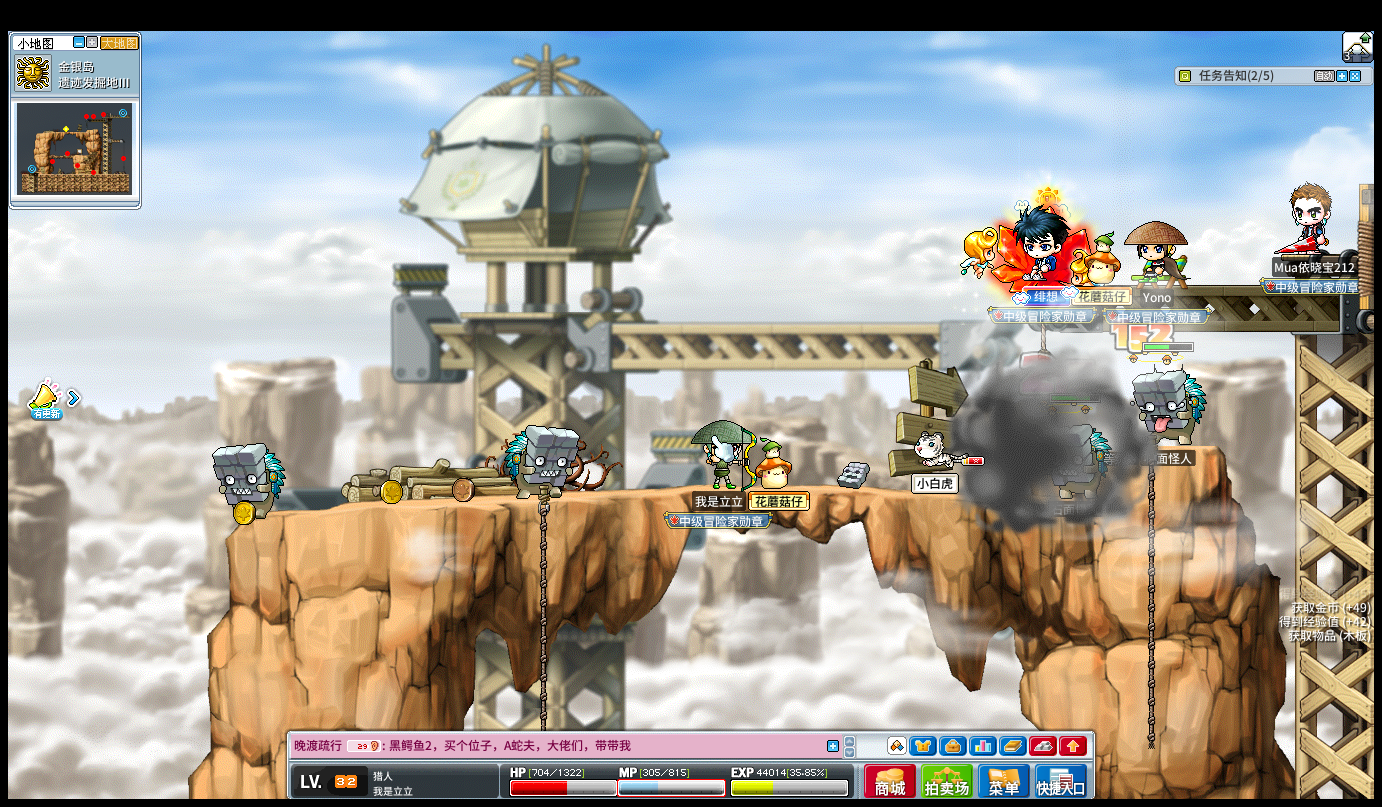floor: (227, 480, 1053, 511), (241, 480, 980, 503)
monster: (1047, 420, 1111, 527), (211, 442, 286, 524), (504, 424, 579, 501), (1132, 369, 1208, 442)
rope: (1143, 436, 1160, 752), (536, 482, 549, 684)
